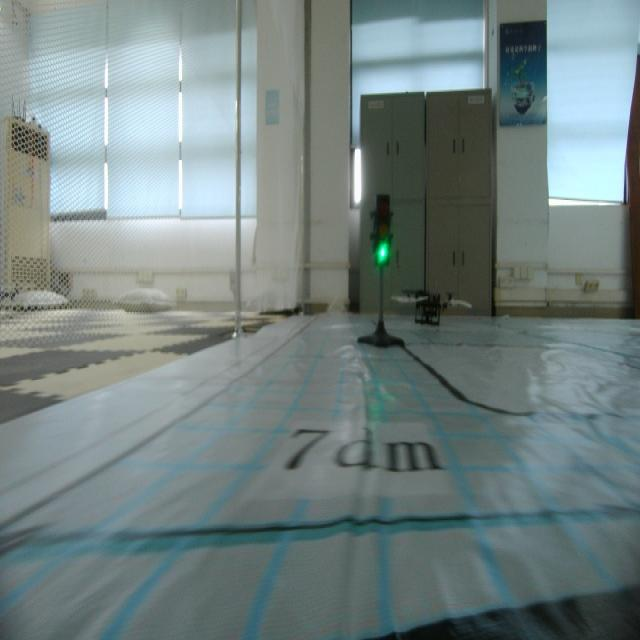green: (368, 186, 394, 276)
